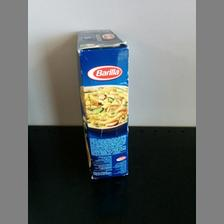Nudeln: (76, 28, 128, 180)
